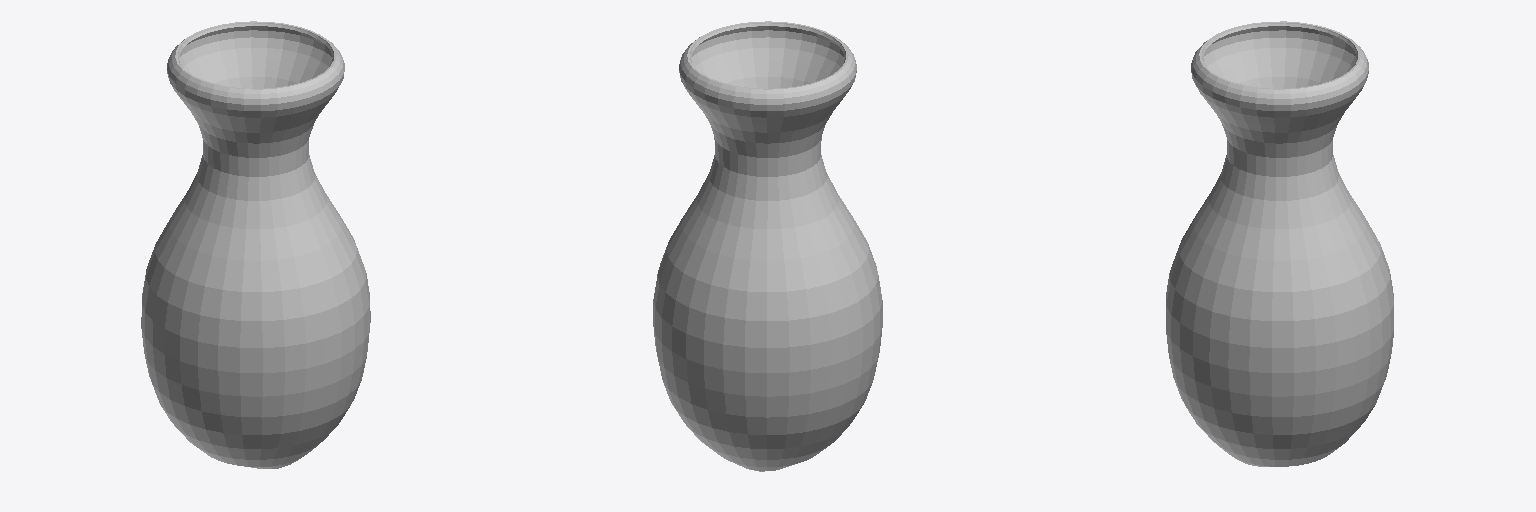
Rendered from Vase.obj.
3 views of the same model, side by side, from view 1: azimuth 30°, elevation 25°; view 2: azimuth 150°, elevation 25°; view 3: azimuth 270°, elevation 25° (orthographic).
Parts seen in each view (by area): view 1: Plane; view 2: Plane; view 3: Plane.
Boxes of the visible parts, x1,y1,x2,y2 form: Plane: [141, 21, 370, 468]; Plane: [653, 21, 882, 471]; Plane: [1166, 21, 1393, 466].
Size of the model in its own units: 0.1268 by 0.245 by 0.1268.